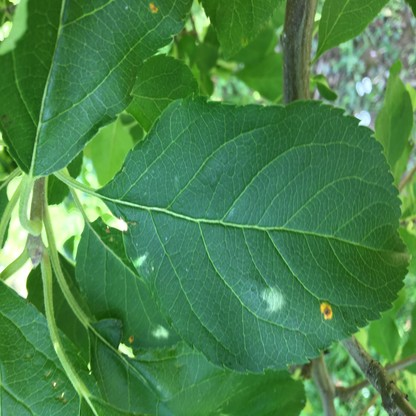rust: (321, 303, 332, 320), (148, 2, 158, 13), (128, 335, 134, 342)
